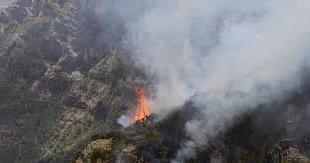fire: (132, 86, 151, 125)
